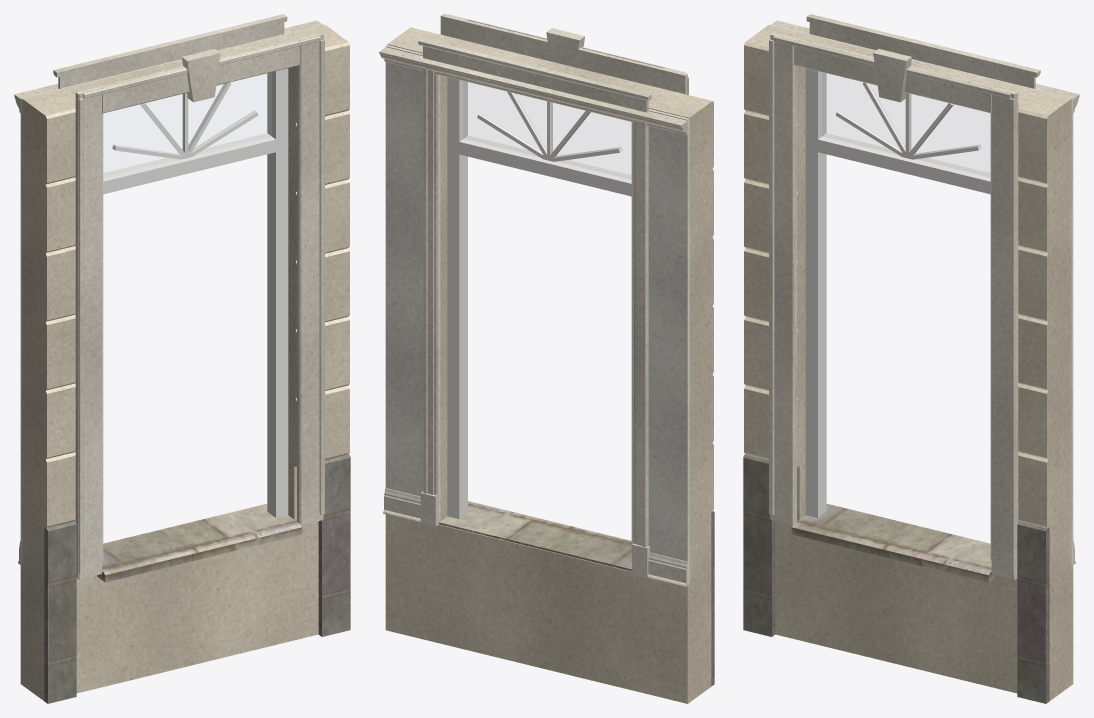
Rendered from g_wall_door.glb.
The picture shows the model from 3 angles, left to right: view 1: azimuth 30°, elevation 25°; view 2: azimuth 150°, elevation 25°; view 3: azimuth 330°, elevation 25°; orthographic projection.
Visible parts, largest first — view 1: g_wall_door_rust, g_wall_door_trim, g_wall_door_frame, g_wall_door_plinth, g_wall_door_glass, g_wall_door_stone2, molduras, g_wall_door_plaster; view 2: g_wall_door_rust, g_wall_door_plaster, molduras, g_wall_door_frame, g_wall_door_glass, g_wall_door_trim, g_wall_door_stone2, g_wall_door_plinth; view 3: g_wall_door_rust, g_wall_door_trim, g_wall_door_frame, g_wall_door_plinth, g_wall_door_glass, g_wall_door_stone2, molduras, g_wall_door_plaster.
Part boxes in pixels (x1,y1,x2,y2): g_wall_door_rust: (20, 25, 349, 700); g_wall_door_trim: (75, 32, 324, 579); g_wall_door_frame: (102, 68, 288, 560); g_wall_door_plinth: (44, 454, 350, 703); g_wall_door_glass: (104, 73, 271, 176); g_wall_door_stone2: (97, 503, 302, 582); molduras: (14, 14, 322, 564); g_wall_door_plaster: (20, 24, 324, 565); g_wall_door_rust: (385, 27, 713, 703); g_wall_door_plaster: (385, 45, 689, 584); molduras: (379, 38, 687, 587); g_wall_door_frame: (447, 77, 633, 560); g_wall_door_glass: (464, 82, 630, 178); g_wall_door_trim: (440, 14, 688, 94); g_wall_door_stone2: (439, 501, 631, 571); g_wall_door_plinth: (711, 511, 714, 686); g_wall_door_rust: (744, 25, 1073, 700); g_wall_door_trim: (769, 32, 1018, 579); g_wall_door_frame: (805, 68, 991, 560); g_wall_door_plinth: (743, 454, 1049, 703); g_wall_door_glass: (822, 73, 989, 176); g_wall_door_stone2: (791, 503, 996, 582); molduras: (771, 14, 1079, 564); g_wall_door_plaster: (769, 24, 1073, 565).
Size of the model in its own units: 2 by 3.87 by 0.44.
Materials: 7 (5 with a texture image).
